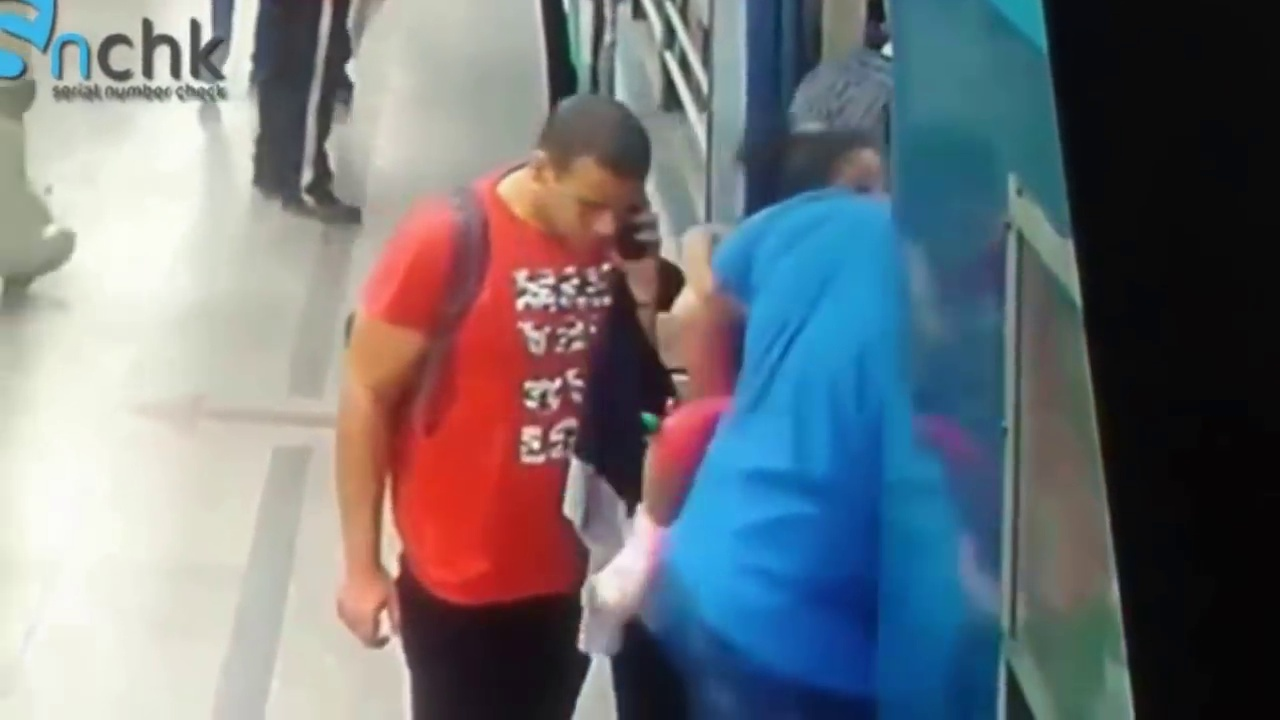face: (545, 140, 645, 257)
